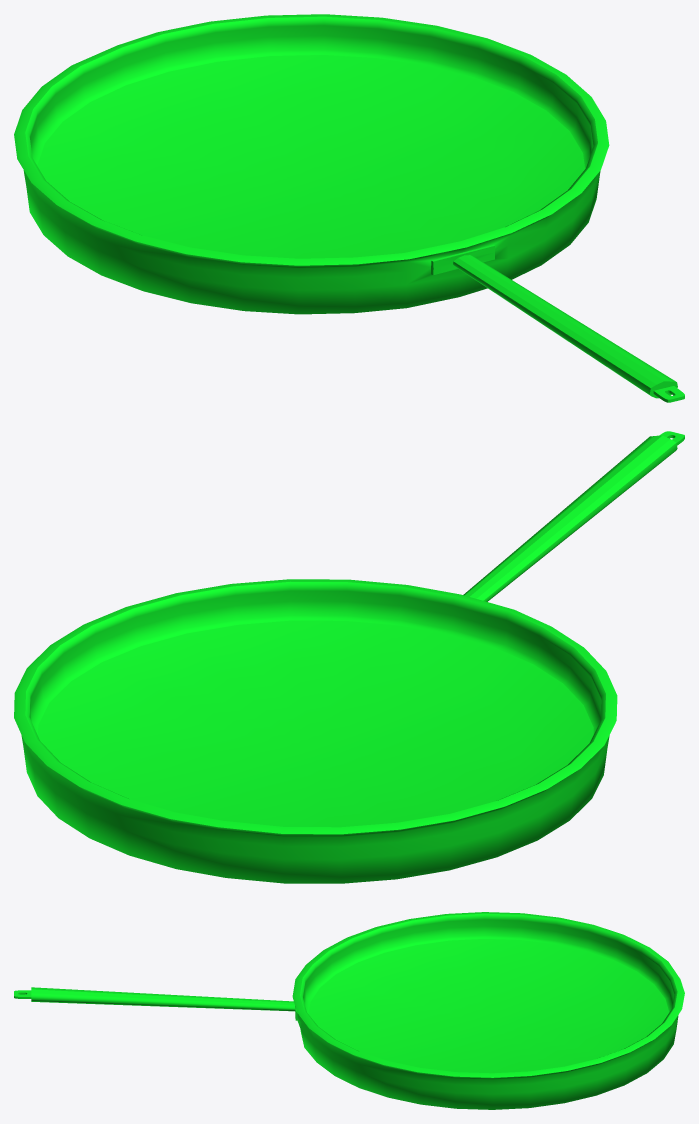
Rendered from Skillet.fbx.
3 renders of one model, top to bottom at view 1: azimuth 30°, elevation 25°; view 2: azimuth 150°, elevation 25°; view 3: azimuth 270°, elevation 25°, orthographic. The views are drawn at different scales.
Visible parts, largest first — view 1: pan; view 2: pan; view 3: pan.
Boxes of the visible parts, bbox=[...] form: pan: bbox=[14, 14, 684, 402]; pan: bbox=[14, 431, 684, 883]; pan: bbox=[14, 912, 684, 1109].
Bounding box in the file's own units: 39.3 × 5.05 × 67.2.
